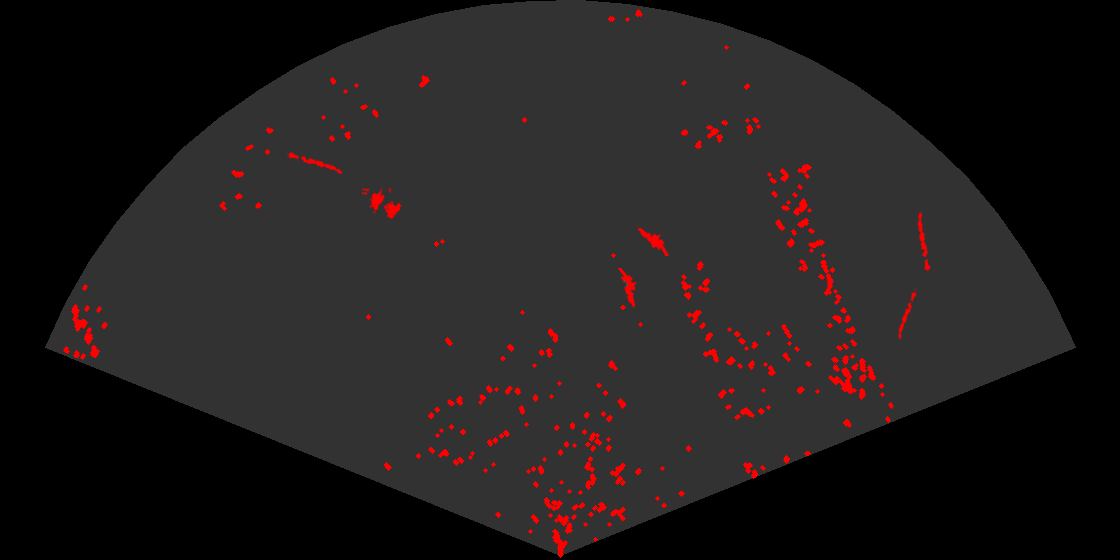cage: (362, 188, 403, 220)
chain: (286, 150, 345, 176), (896, 287, 919, 340), (916, 210, 932, 272)
frogman: (635, 220, 669, 256), (616, 268, 638, 308)
